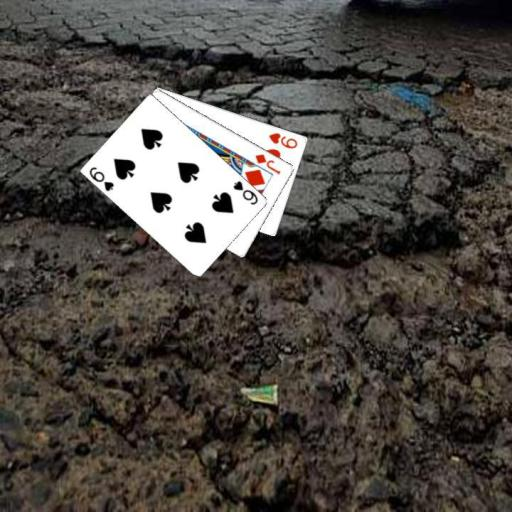6S: (86, 164, 116, 193), (231, 178, 260, 206)
9H: (266, 129, 299, 150)
JD: (253, 151, 283, 176)
